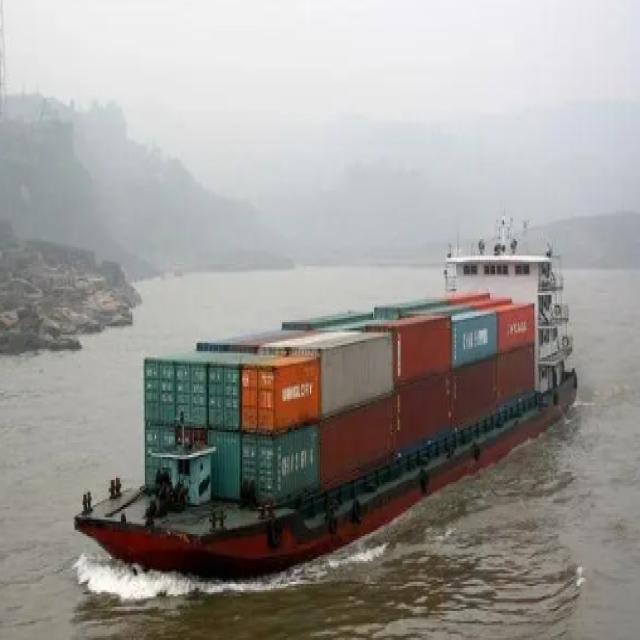cargoship: (73, 209, 584, 581)
